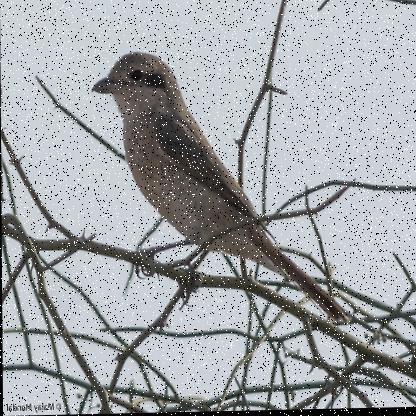Burung: (92, 45, 358, 339)
